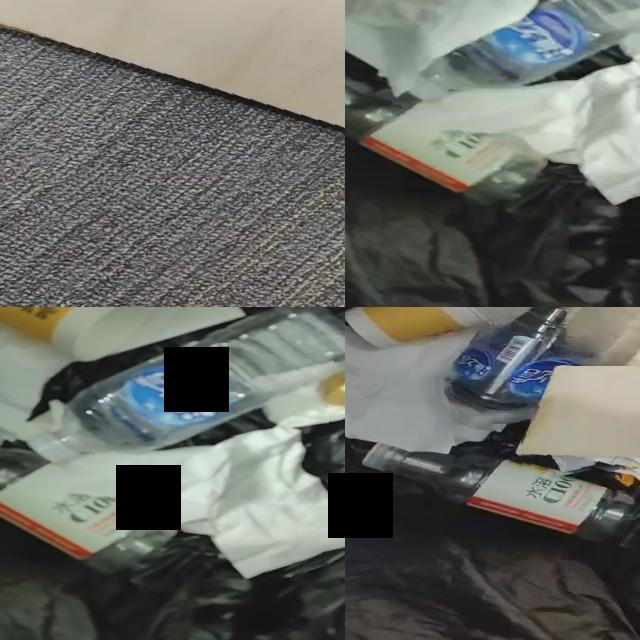bottle: (29, 307, 345, 462), (362, 445, 634, 539), (445, 307, 640, 431), (345, 75, 546, 194), (0, 448, 175, 572), (426, 0, 640, 90), (520, 366, 640, 460)
carton: (0, 0, 345, 133), (564, 307, 640, 374)
dixie_cup: (0, 307, 149, 361), (345, 307, 488, 348)
paper: (33, 425, 345, 578), (373, 62, 640, 204), (345, 325, 488, 453), (345, 0, 536, 95), (565, 62, 640, 204), (0, 327, 69, 438), (255, 362, 345, 428), (129, 307, 243, 348), (604, 8, 640, 60), (551, 460, 640, 480)
